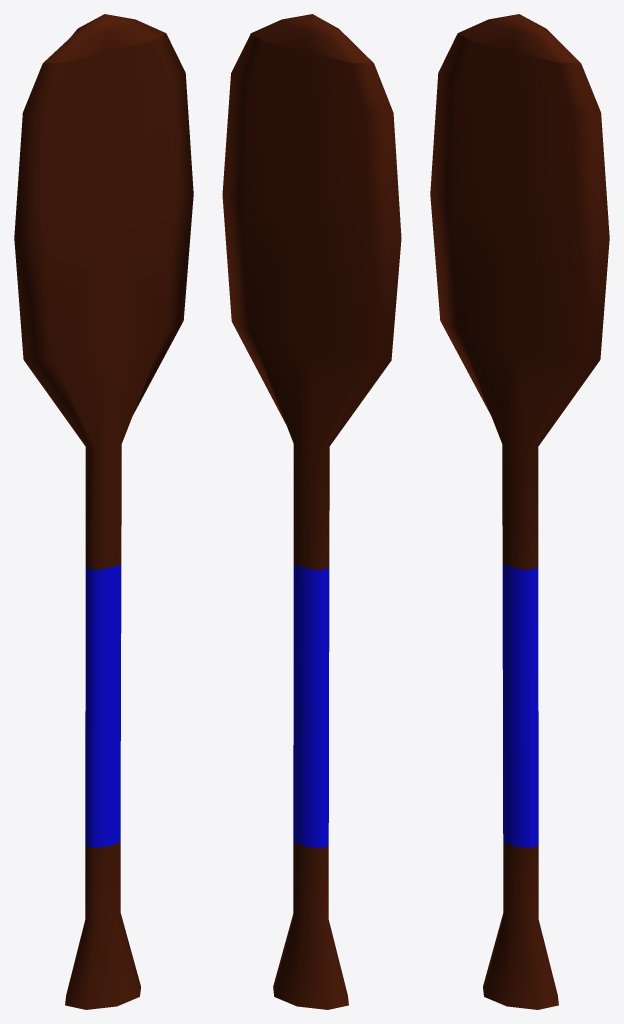
File: Oar.fbx
The picture shows the model from 3 angles, left to right: view 1: azimuth 30°, elevation 25°; view 2: azimuth 150°, elevation 25°; view 3: azimuth 330°, elevation 25°; orthographic projection.
Parts seen in each view (by area): view 1: Cylinder009; view 2: Cylinder009; view 3: Cylinder009.
Part boxes in pixels (<box>): Cylinder009: <box>14,14,193,1009</box>; Cylinder009: <box>222,14,401,1009</box>; Cylinder009: <box>430,14,609,1009</box>.
Size of the model in its own units: 11.12 by 58.24 by 3.03.
